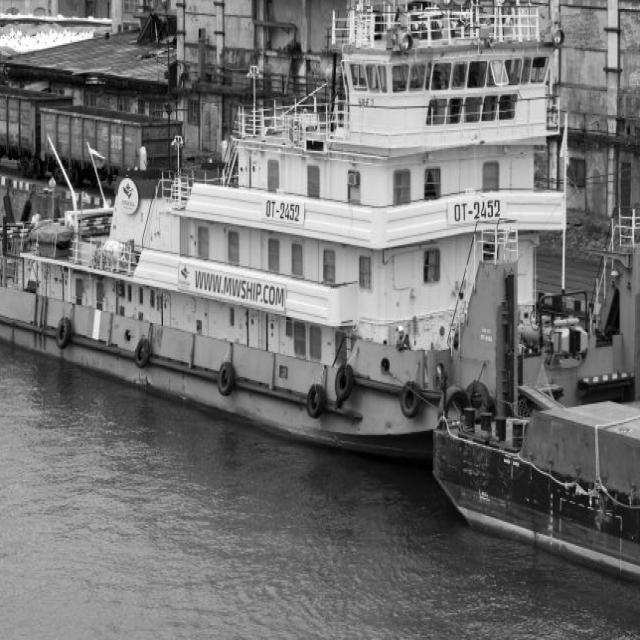tugboat: (1, 1, 640, 485)
